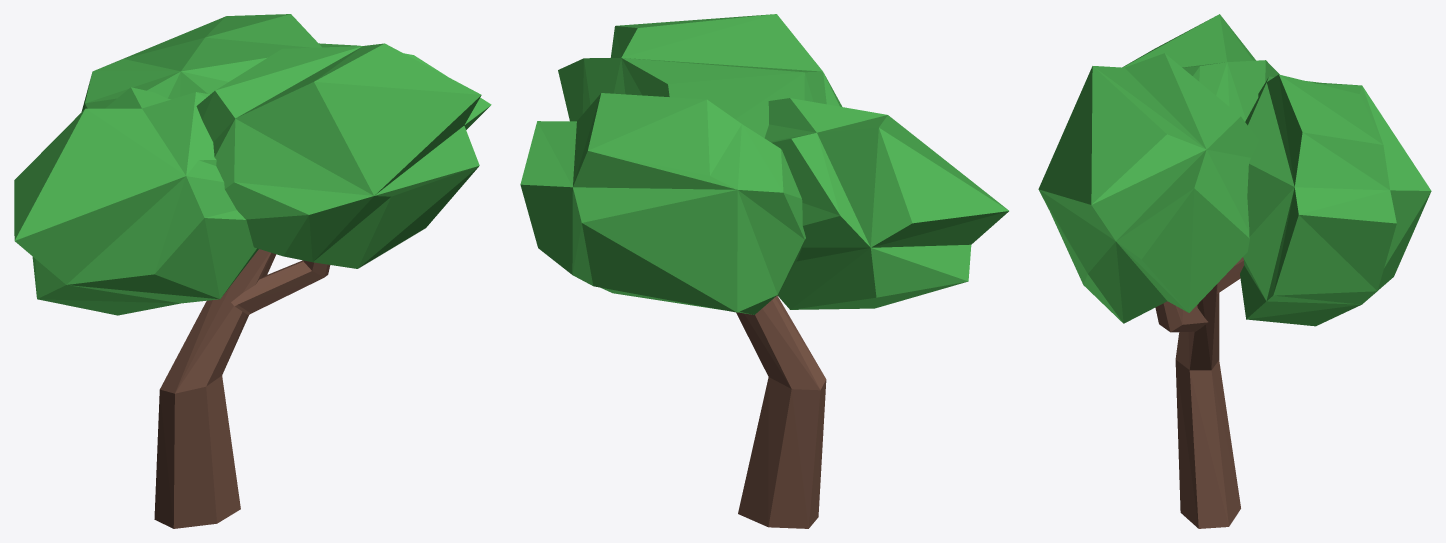
File: arbol2.glb
3 views of the same model, side by side, from view 1: azimuth 30°, elevation 25°; view 2: azimuth 150°, elevation 25°; view 3: azimuth 270°, elevation 25° (orthographic). The views are drawn at different scales.
Visible parts, largest first — view 1: albol2; view 2: albol2; view 3: albol2.
Boxes of the visible parts, x1,y1,x2,y2 form: albol2: (14,14,491,528); albol2: (520,14,1008,528); albol2: (1038,14,1431,528).
Bounding box in the file's own units: 33.38 × 31.18 × 23.4.
